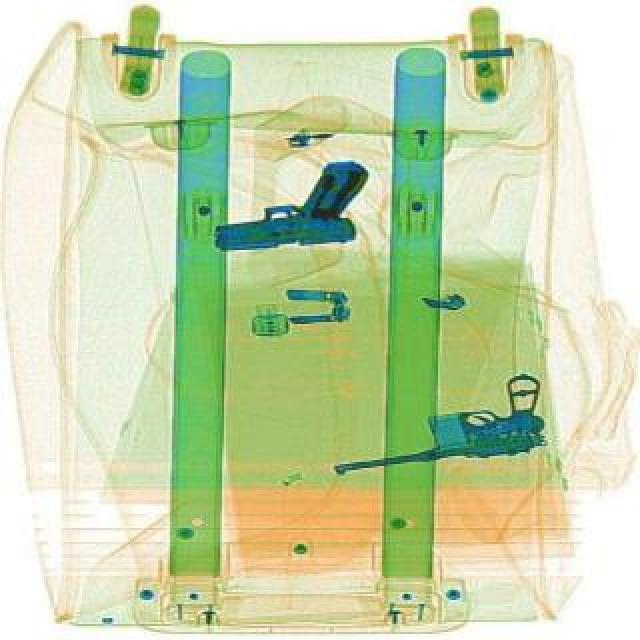gun: (320, 372, 548, 476), (200, 158, 372, 254)
